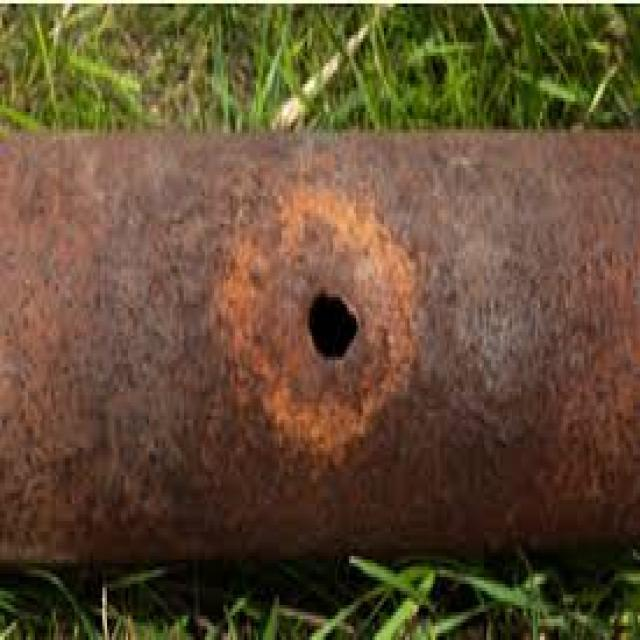hole: (306, 286, 363, 358)
